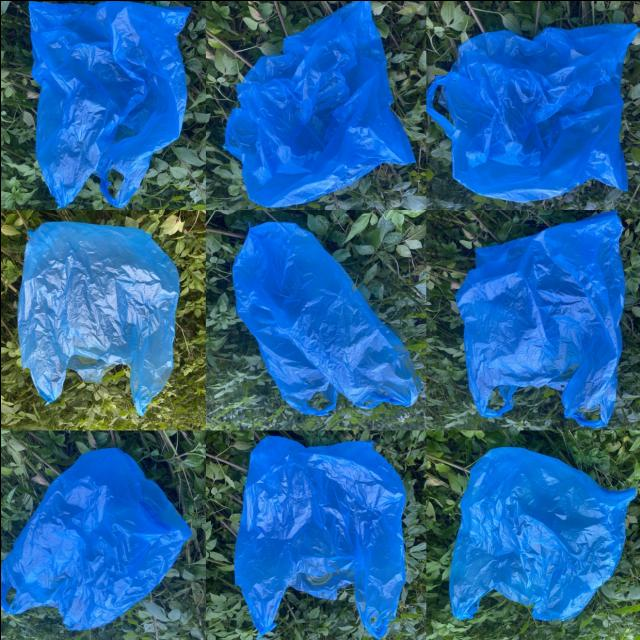plastik: (223, 0, 413, 207), (425, 22, 637, 202), (231, 221, 421, 415), (455, 211, 624, 426), (0, 447, 190, 629), (234, 436, 404, 638), (28, 0, 190, 207), (448, 446, 635, 619), (17, 221, 178, 415)
